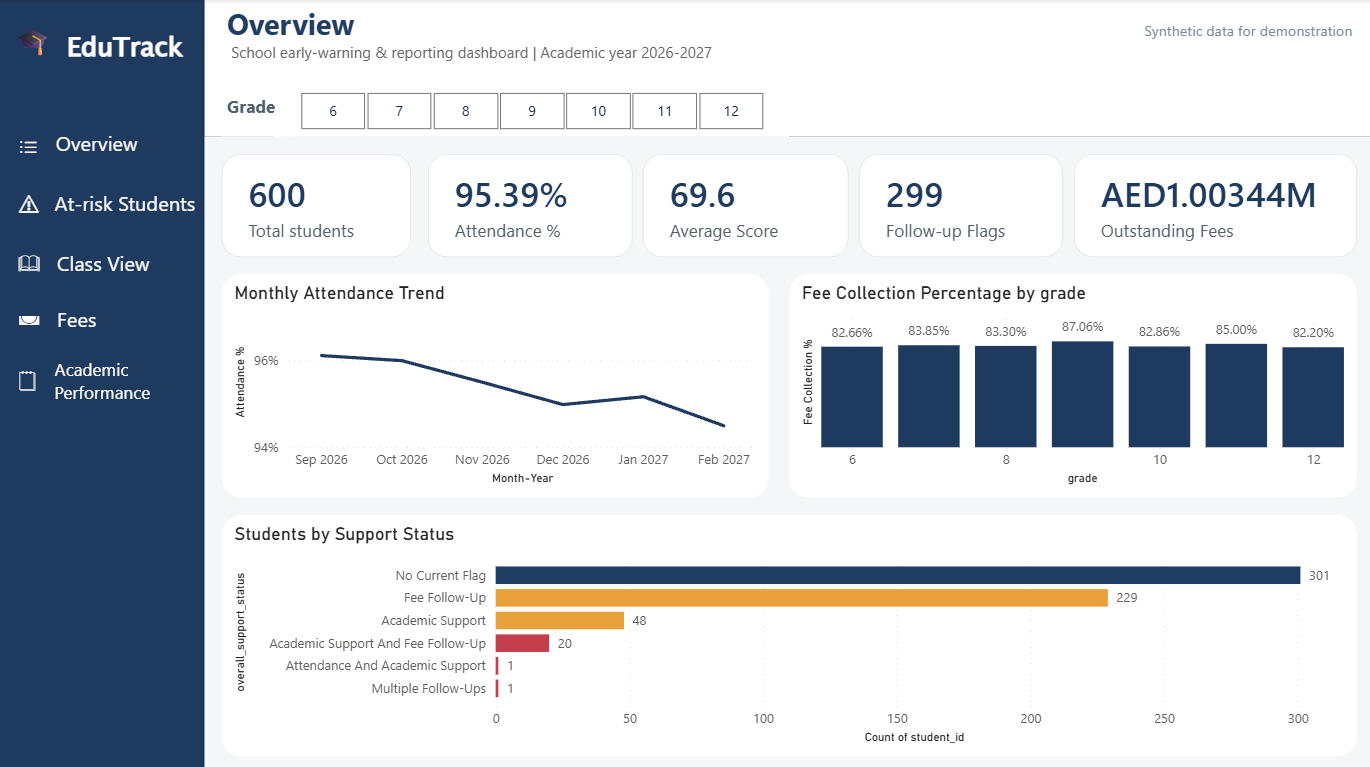

The dashboard page shown, as its layout file describes it:
{"tool":"powerbi","page":{"name":"Overview","canvas":[1280,720],"ordinal":0},"visuals":[{"type":"shape","box":[192,0,1088,128],"z":0},{"type":"textbox","box":[58.8,22.5,137.5,52.5],"z":0,"group":"g4"},{"type":"textbox","box":[48.8,116.2,112.5,40],"z":0,"group":"g3"},{"type":"textbox","box":[47.6,172.5,187.5,38.8],"z":0,"group":"g1"},{"type":"textbox","box":[50.1,227.8,150,38.8],"z":0,"group":"g2"},{"type":"textbox","box":[49.8,280,62.5,45],"z":0,"group":"g5"},{"type":"shape","box":[0,0,191.9,719.8],"z":1000},{"type":"textbox","box":[8.8,15,58.8,46.2],"z":1000,"group":"g4"},{"type":"textbox","box":[0,122.4,58.8,33.8],"z":1000,"group":"g3"},{"type":"textbox","box":[8.8,170,50,52.5],"z":1000,"group":"g1"},{"type":"textbox","box":[12.6,227.8,42.5,43.8],"z":1000,"group":"g2"},{"type":"textbox","box":[12.3,270,53.8,57.5],"z":1000,"group":"g5"},{"type":"cardVisual","fields":{"Data":["students.Total students"]},"box":[208,144,176,96],"z":2000},{"type":"cardVisual","fields":{"Data":["attendance.Attendance %"]},"box":[400,144,190,96],"z":3000},{"type":"lineChart","title":"Monthly Attendance Trend","fields":{"Y":["attendance.Attendance %"],"Category":["attendance.Month-Year"]},"box":[207.7,255.8,509.1,207.7],"z":4000},{"type":"clusteredColumnChart","title":"Fee Collection Percentage by grade","fields":{"Category":["students.grade"],"Y":["fees.Fee Collection %"]},"box":[736,256,528,208],"z":5000},{"type":"clusteredBarChart","title":"Students by Support Status","fields":{"Y":["CountNonNull(view_student_warning.student_id)"],"Category":["view_student_warning.overall_support_status"]},"box":[208,480,1056,224],"z":6000},{"type":"slicer","fields":{"Values":["view_student_warning.grade"]},"box":[255.8,80.2,480.2,47.7],"z":7000},{"type":"cardVisual","fields":{"Data":["exam_results.Average Exam Score"]},"box":[600.4,144.1,190.9,96.1],"z":8000},{"type":"cardVisual","fields":{"Data":["fees.Outstanding Fees"]},"box":[1001.4,144.1,263,96.1],"z":9000},{"type":"cardVisual","fields":{"Data":["view_student_warning.Students Requiring Support"]},"box":[800.9,144.1,189.7,96.1],"z":10000},{"type":"group","id":"g1","title":"Group 1","box":[8.8,170,226.2,52.5],"z":11000},{"type":"group","id":"g2","title":"Group 2","box":[12.6,227.8,187.5,43.8],"z":12000},{"type":"group","id":"g3","title":"Group 3","box":[0,116.2,161.2,40],"z":13000},{"type":"group","id":"g4","title":"Group 4","box":[8.8,15,187.5,60],"z":14000},{"type":"group","id":"g5","title":"Group 5","box":[12.3,270,100,57.5],"z":15000},{"type":"textbox","box":[208,0,688,64],"z":16000},{"type":"textbox","box":[208,64,64,64],"z":17000},{"type":"textbox","box":[1061.6,15.3,218.4,36.2],"z":18000},{"type":"actionButton","box":[12,171.7,180.1,39.6],"z":19000},{"type":"actionButton","box":[9.7,221.2,164.2,50.1],"z":20000},{"type":"actionButton","box":[12.5,279.7,161.4,40.3],"z":21000},{"type":"group","id":"g6","title":"Group 6","box":[11.6,327.9,168.6,57],"z":22000},{"type":"textbox","box":[11.6,333.7,38.4,46.5],"z":22000,"group":"g6"},{"type":"textbox","box":[47.6,327.9,132.6,57],"z":23000,"group":"g6"},{"type":"actionButton","box":[14,337.2,147.7,39.5],"z":23000}]}

Visuals, with their boxes on the page's 1280x720 design canvas (x1, y1, x2, y2). These are canvas units, not pixel positions in the 1370x767 screenshot, which may show the page scaled, cropped or inside an application window:
shape: left=192, top=0, right=1280, bottom=128
textbox: left=59, top=22, right=196, bottom=75
textbox: left=49, top=116, right=161, bottom=156
textbox: left=48, top=172, right=235, bottom=211
textbox: left=50, top=228, right=200, bottom=267
textbox: left=50, top=280, right=112, bottom=325
shape: left=0, top=0, right=192, bottom=720
textbox: left=9, top=15, right=68, bottom=61
textbox: left=0, top=122, right=59, bottom=156
textbox: left=9, top=170, right=59, bottom=222
textbox: left=13, top=228, right=55, bottom=272
textbox: left=12, top=270, right=66, bottom=328
cardVisual - students.Total students: left=208, top=144, right=384, bottom=240
cardVisual - attendance.Attendance %: left=400, top=144, right=590, bottom=240
"Monthly Attendance Trend" lineChart: left=208, top=256, right=717, bottom=464
"Fee Collection Percentage by grade" clusteredColumnChart: left=736, top=256, right=1264, bottom=464
"Students by Support Status" clusteredBarChart: left=208, top=480, right=1264, bottom=704
slicer - view_student_warning.grade: left=256, top=80, right=736, bottom=128
cardVisual - exam_results.Average Exam Score: left=600, top=144, right=791, bottom=240
cardVisual - fees.Outstanding Fees: left=1001, top=144, right=1264, bottom=240
cardVisual - view_student_warning.Students Requiring Support: left=801, top=144, right=991, bottom=240
"Group 1" group: left=9, top=170, right=235, bottom=222
"Group 2" group: left=13, top=228, right=200, bottom=272
"Group 3" group: left=0, top=116, right=161, bottom=156
"Group 4" group: left=9, top=15, right=196, bottom=75
"Group 5" group: left=12, top=270, right=112, bottom=328
textbox: left=208, top=0, right=896, bottom=64
textbox: left=208, top=64, right=272, bottom=128
textbox: left=1062, top=15, right=1280, bottom=52
actionButton: left=12, top=172, right=192, bottom=211
actionButton: left=10, top=221, right=174, bottom=271
actionButton: left=12, top=280, right=174, bottom=320
"Group 6" group: left=12, top=328, right=180, bottom=385
textbox: left=12, top=334, right=50, bottom=380
textbox: left=48, top=328, right=180, bottom=385
actionButton: left=14, top=337, right=162, bottom=377
